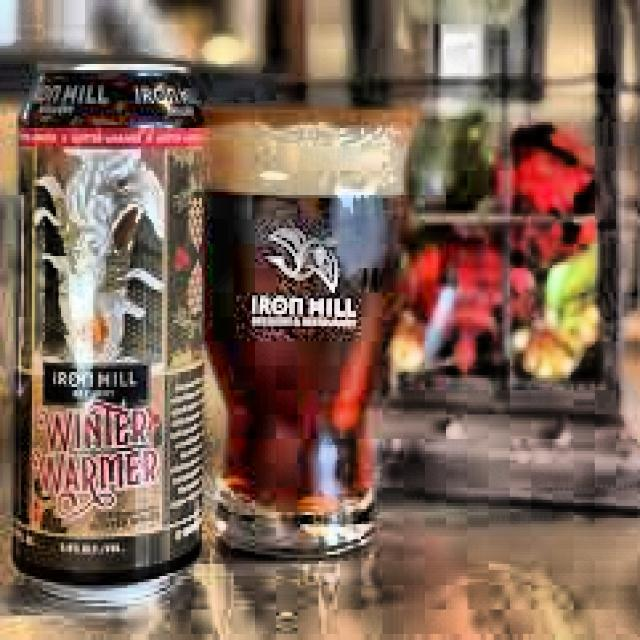can: (15, 54, 209, 609)
